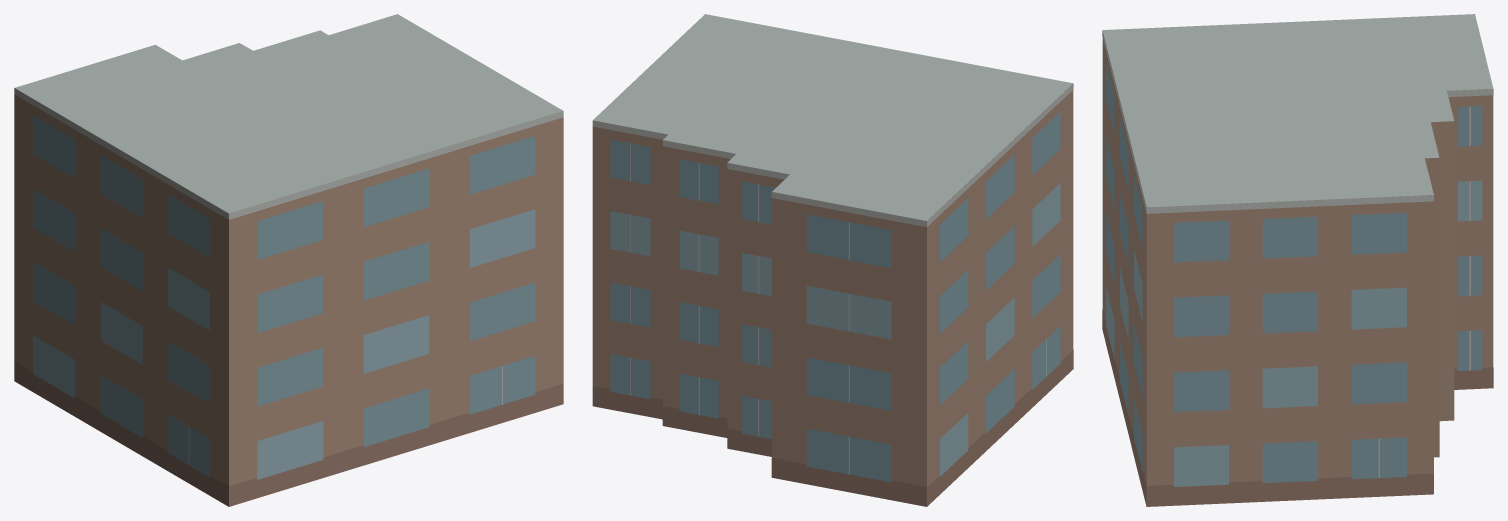
The model's file is survey-upis-32616001.glb.
The picture shows the model from 3 angles, left to right: view 1: azimuth 30°, elevation 25°; view 2: azimuth 150°, elevation 25°; view 3: azimuth 270°, elevation 25°; orthographic projection. The views are drawn at different scales.
Visible parts, largest first — view 1: survey-upis-32616001.tmp; view 2: survey-upis-32616001.tmp; view 3: survey-upis-32616001.tmp.
Boxes of the visible parts, <box> form: survey-upis-32616001.tmp: <box>14,14,563,506</box>; survey-upis-32616001.tmp: <box>592,14,1073,506</box>; survey-upis-32616001.tmp: <box>1102,14,1493,506</box>.
Size of the model in its own units: 15.67 by 11.3 by 13.38.
